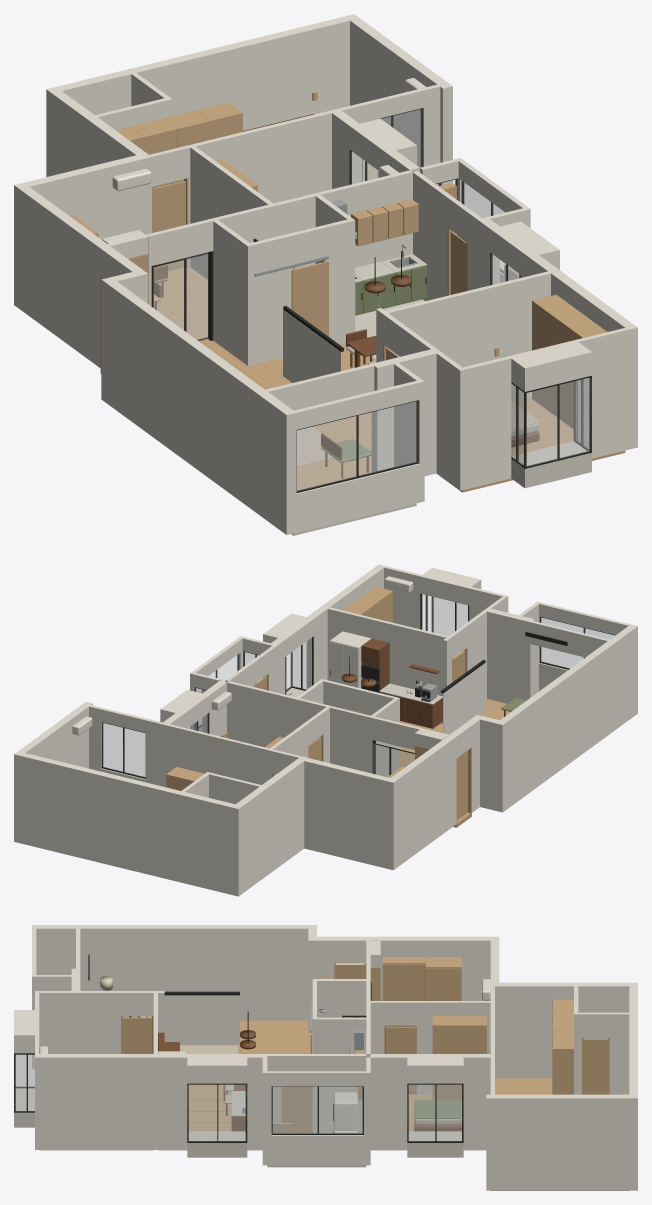
File: whole_home_R10.4.glb
The picture shows the model from 3 angles, top to bottom: view 1: azimuth 30°, elevation 25°; view 2: azimuth 150°, elevation 25°; view 3: azimuth 270°, elevation 25°; orthographic projection. The views are drawn at different scales.
Visible parts, largest first — view 1: wall_living_west_0, wall_A_north_0, wall_family_west_0, wall_CD_0, wall_A_south1_0, balconyA_south_glass, wall_family_north_0, wall_bath_kitchen_north_0, wall_A_east_0, wall_D_south1_0, wall_D_south2_0, balconyA_south_sill (+44 smaller); view 2: wall_A_north_0, wall_living_west_0, wall_family_north_0, wall_bath_kitchen_north_0, wall_A_west_0, wall_family_west_0, wall_A_south1_0, wall_CD_0, wall_balconyA_head2_0, wall_entry_step_0, wall_A_east_0, screen_fabric (+35 smaller); view 3: wall_living_west_0, wall_A_east_0, wall_D_east_0, wall_A_west_0, wall_D_west2_0, balconyB_east_glass, screen_fabric, wall_family_west_0, wall_B_east2_0, C_bay_east_glass, B_bay_east_glass, balconyB_east_sill (+48 smaller).
Boxes of the visible parts, <box> form: wall_living_west_0: <box>107,281,296,534</box>; wall_A_north_0: <box>46,14,358,176</box>; wall_family_west_0: <box>19,187,109,367</box>; wall_CD_0: <box>380,269,560,401</box>; wall_A_south1_0: <box>186,103,361,267</box>; balconyA_south_glass: <box>297,401,416,491</box>; wall_family_north_0: <box>14,155,151,308</box>; wall_bath_kitchen_north_0: <box>211,170,412,268</box>; wall_A_east_0: <box>348,16,452,185</box>; wall_D_south1_0: <box>463,356,511,489</box>; wall_D_south2_0: <box>576,328,628,458</box>; balconyA_south_sill: <box>296,463,419,532</box>; wall_A_north_0: <box>14,753,242,896</box>; wall_living_west_0: <box>500,624,637,808</box>; wall_family_north_0: <box>298,756,397,870</box>; wall_bath_kitchen_north_0: <box>227,681,374,773</box>; wall_A_west_0: <box>235,758,305,894</box>; wall_family_west_0: <box>391,735,456,866</box>; wall_A_south1_0: <box>146,719,273,787</box>; wall_CD_0: <box>321,605,447,723</box>; wall_balconyA_head2_0: <box>487,608,534,703</box>; wall_entry_step_0: <box>475,715,506,812</box>; wall_A_east_0: <box>16,702,92,768</box>; screen_fabric: <box>443,663,485,734</box>; wall_living_west_0: <box>32,925,308,1020</box>; wall_A_east_0: <box>486,1094,633,1190</box>; wall_D_east_0: <box>35,1054,153,1149</box>; wall_A_west_0: <box>495,982,633,1078</box>; wall_D_west2_0: <box>35,991,120,1053</box>; balconyB_east_glass: <box>272,1087,362,1133</box>; screen_fabric: <box>150,995,239,1045</box>; wall_family_west_0: <box>366,936,490,1000</box>; wall_B_east2_0: <box>370,1054,407,1149</box>; C_bay_east_glass: <box>189,1085,245,1141</box>; B_bay_east_glass: <box>409,1085,461,1141</box>; balconyB_east_sill: <box>271,1135,363,1165</box>.
Size of the model in its own units: 11.27 by 2.92 by 17.16.
